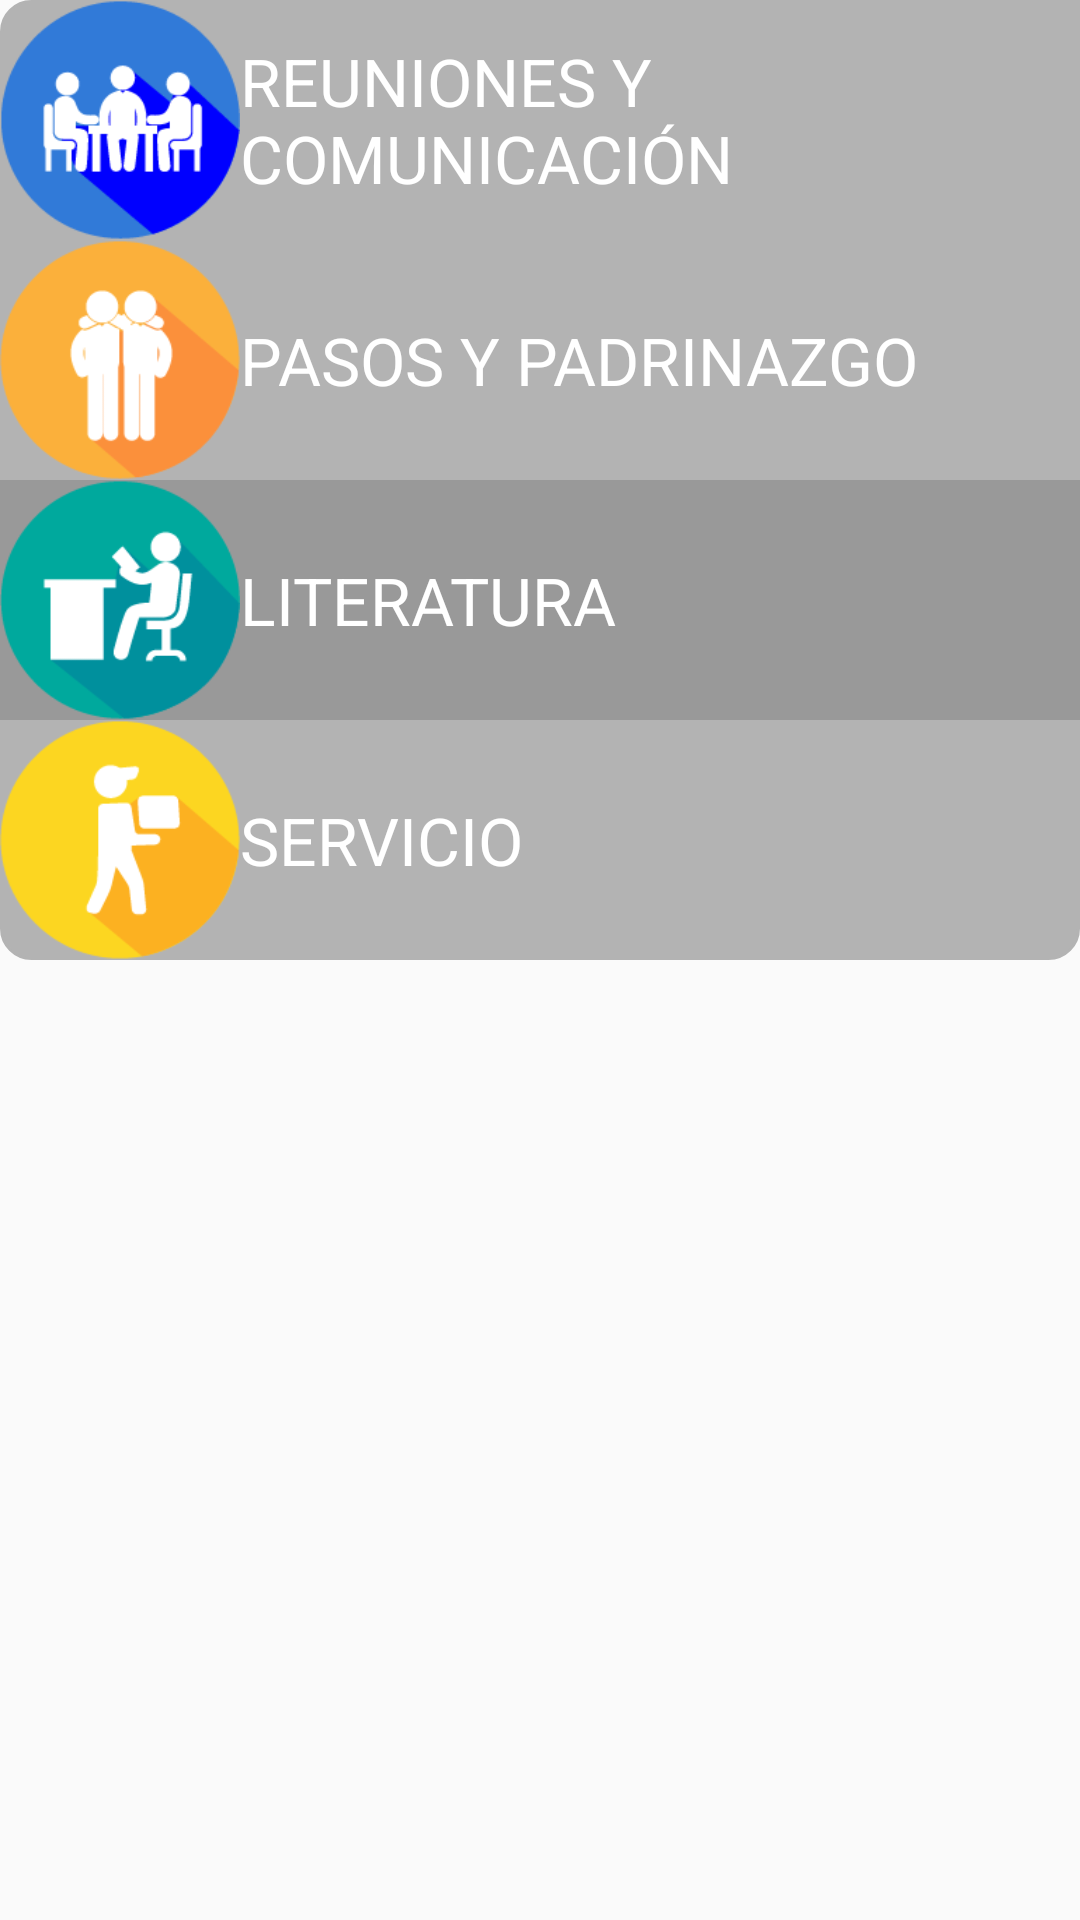

Where to tap for icons on this 1080px×1920px app screen, as (x,y):
lectura: (120,600)
